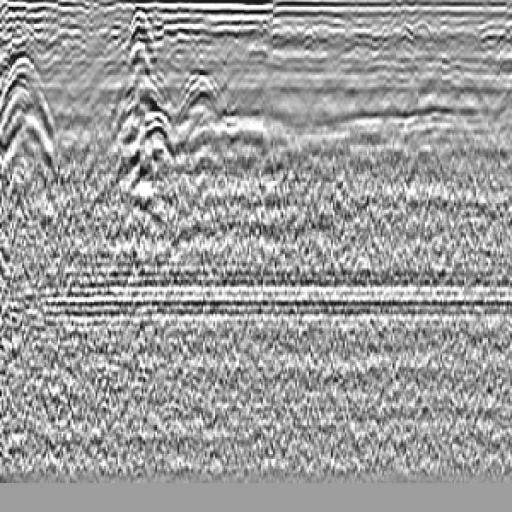metalic: (101, 1, 180, 238)
nonmetalic: (1, 30, 66, 182), (180, 60, 245, 141)
